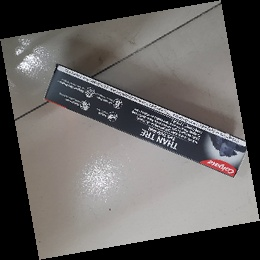Colgate Than: (41, 64, 247, 179)
